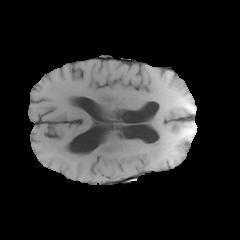glioma: (56, 107, 195, 165)
